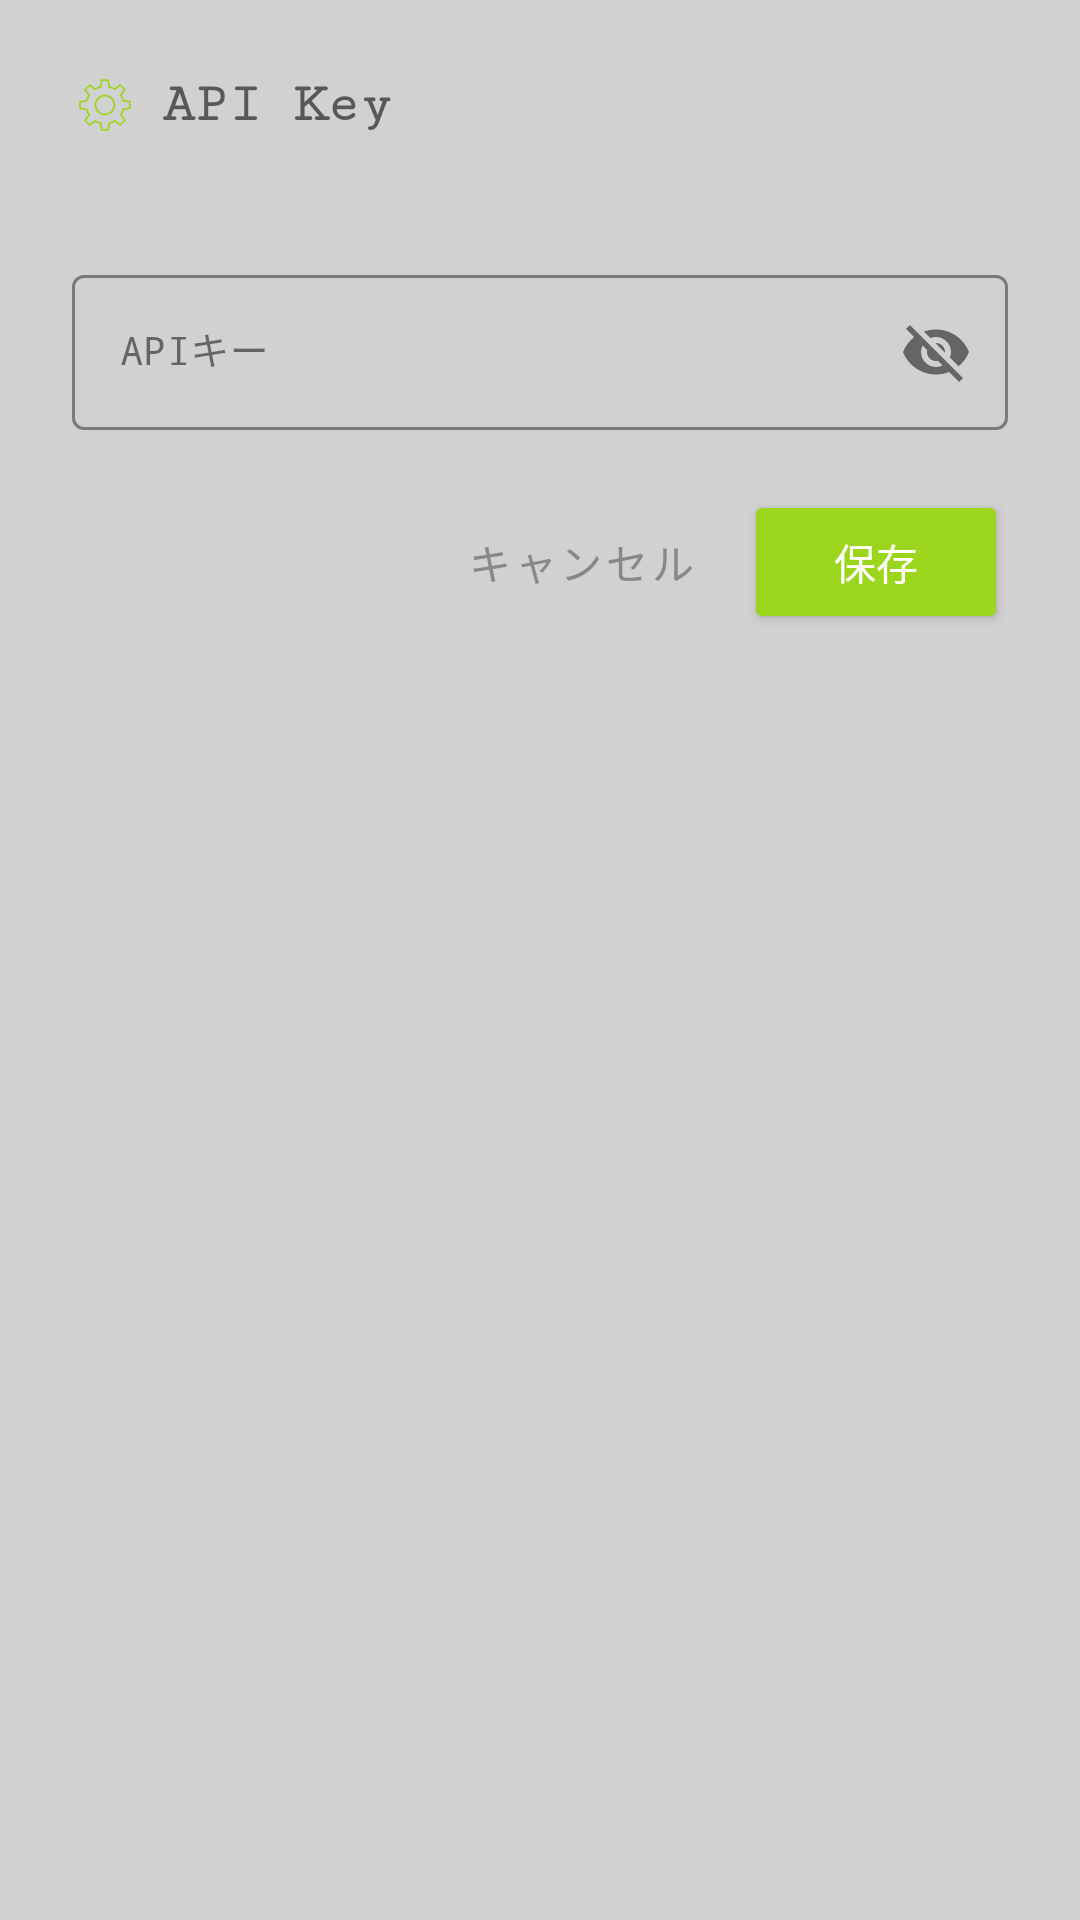

Locate icon controls on the screen. Image size 1080 × 1920, boxes as (x1,y1,x2,y2).
settings: (79,79,131,131)
